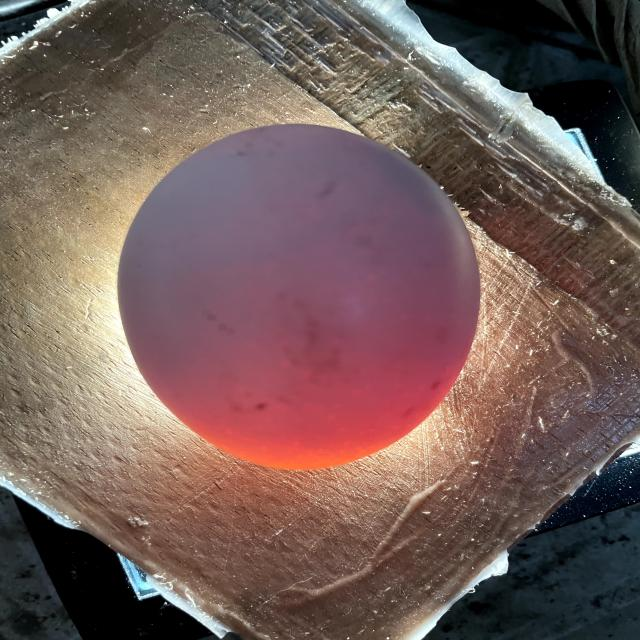fertile: (118, 125, 480, 469)
